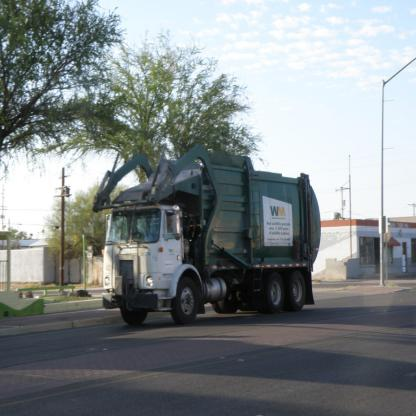Truck: (92, 151, 328, 327)
